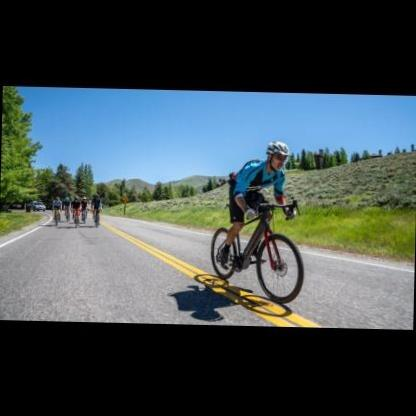Bicycle: (193, 195, 317, 312)
